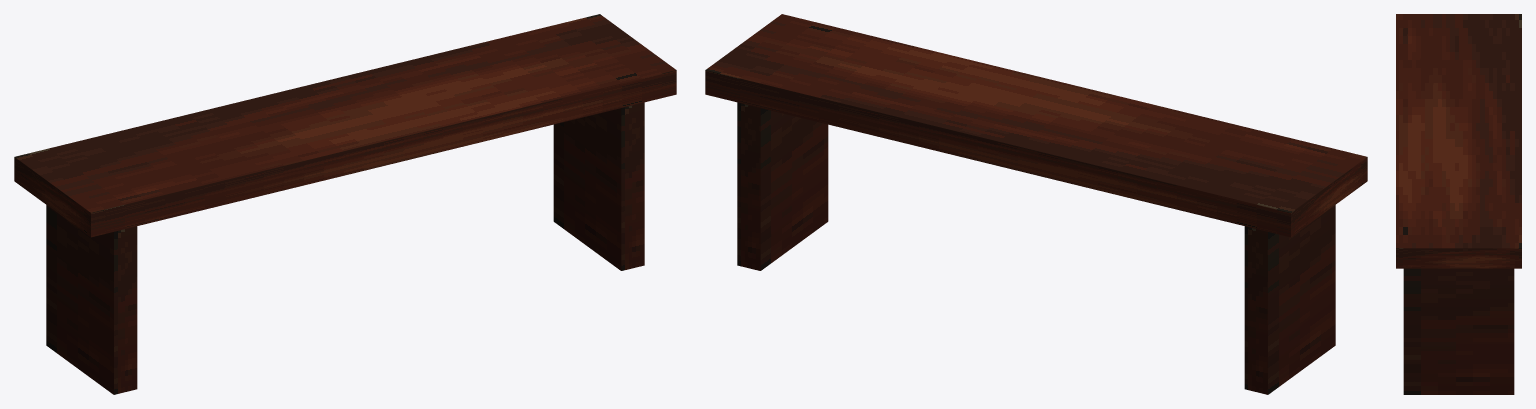
The model's file is prop_benchmusic-3.glb.
3 renders of one model, left to right at view 1: azimuth 30°, elevation 25°; view 2: azimuth 150°, elevation 25°; view 3: azimuth 270°, elevation 25°, orthographic. The views are drawn at different scales.
Parts seen in each view (by area): view 1: prop_benchmusic-3; view 2: prop_benchmusic-3; view 3: prop_benchmusic-3.
Part boxes in pixels (box(x1,y1,x2,y2)): prop_benchmusic-3: box(14, 14, 676, 394); prop_benchmusic-3: box(705, 14, 1367, 394); prop_benchmusic-3: box(1396, 14, 1521, 394).
Size of the model in its own units: 1.5 by 0.47 by 0.34.
1 material, 1 textured.
